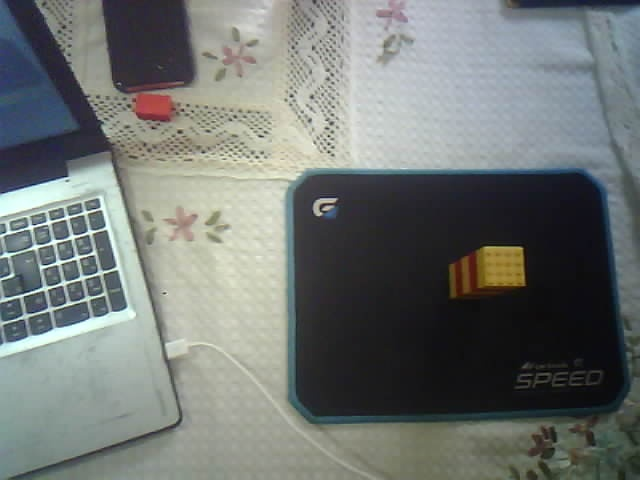lego: (446, 244, 526, 301), (134, 93, 173, 120)
